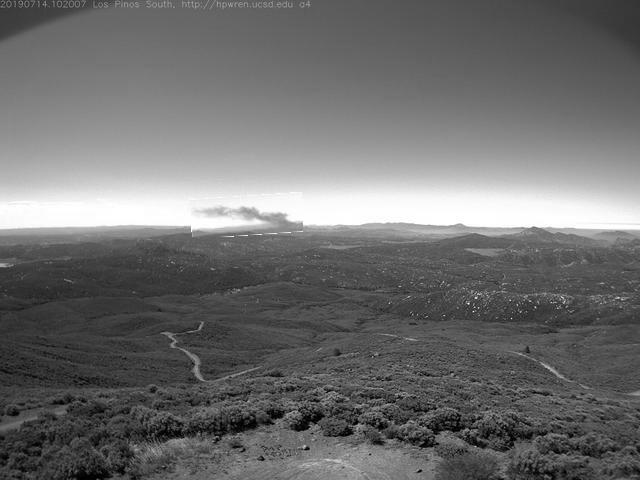smoke: (192, 195, 305, 238)
